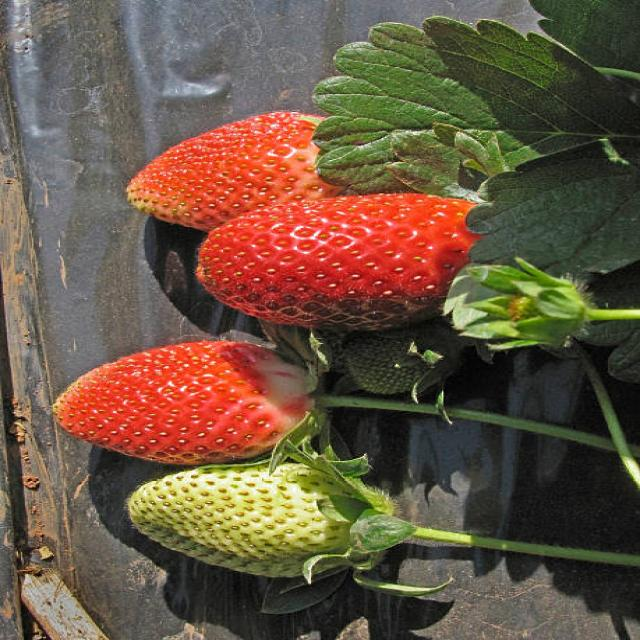Healthy Fruit: (193, 193, 487, 334), (49, 340, 318, 464), (129, 463, 379, 578), (127, 109, 360, 231)
